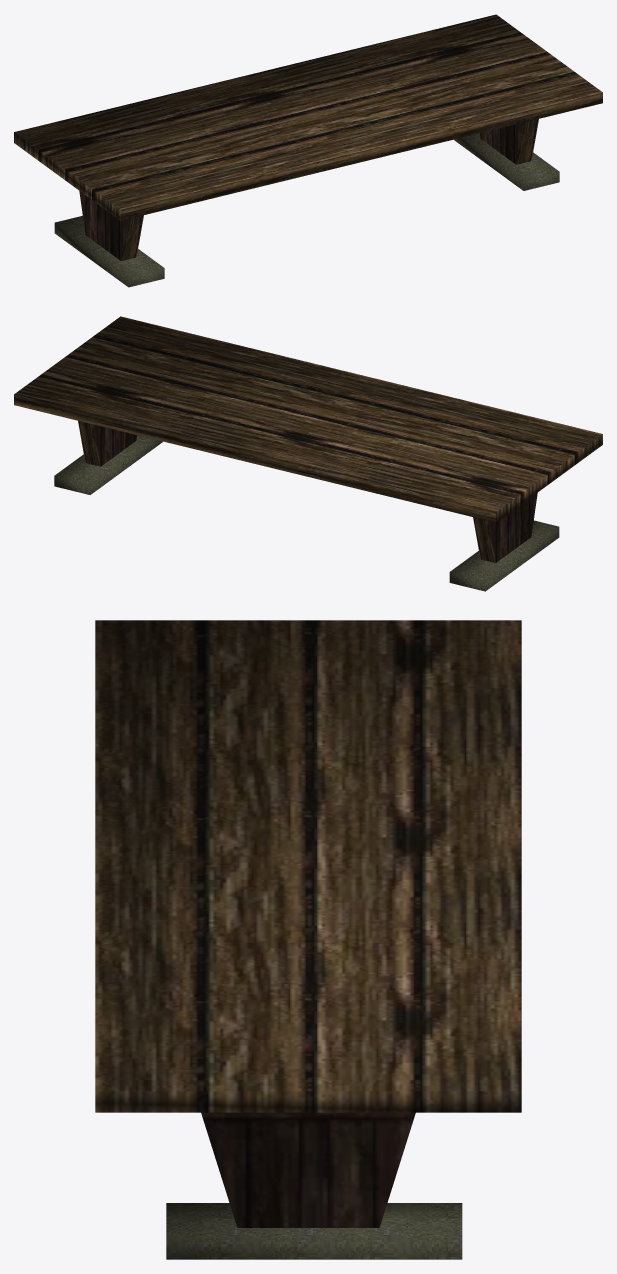
The model's file is OC_LOB_TABLE_HEAVY_LONG.glb.
The picture shows the model from 3 angles, top to bottom: view 1: azimuth 30°, elevation 25°; view 2: azimuth 150°, elevation 25°; view 3: azimuth 270°, elevation 25°; orthographic projection. The views are drawn at different scales.
Visible parts, largest first — view 1: Mesh; view 2: Mesh; view 3: Mesh.
Part boxes in pixels (x1,y1,x2,y2): Mesh: (14,14,602,287); Mesh: (14,316,602,591); Mesh: (95,620,521,1259).
Size of the model in its own units: 4.7 by 0.8999 by 1.8.
Materials: 3 (3 with a texture image).
